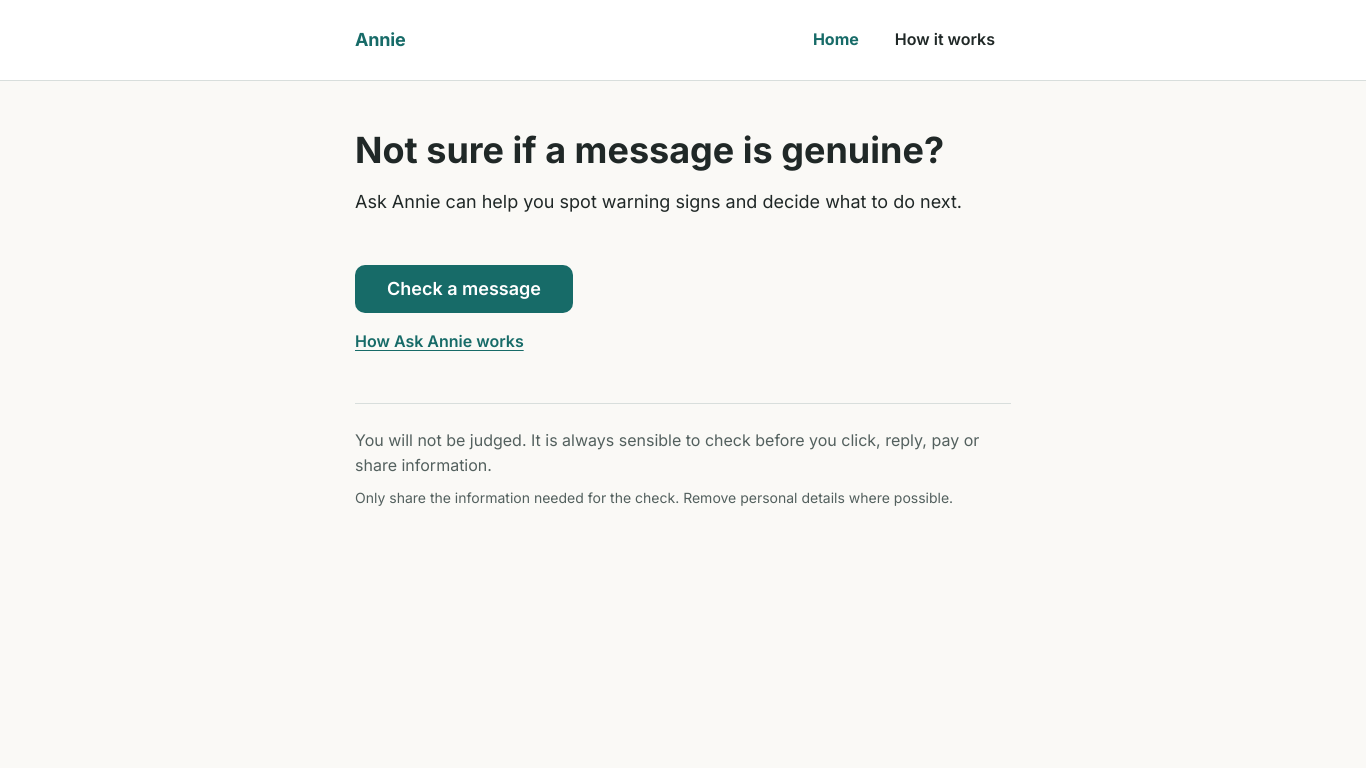
Scenario: WelcomeScreen — App integration › Header "How it works" from a non-welcome screen navigates and opens the panel
// Navigate away to submit screen
Click the button "Check a message": click(464, 289) [355, 265, 573, 313]
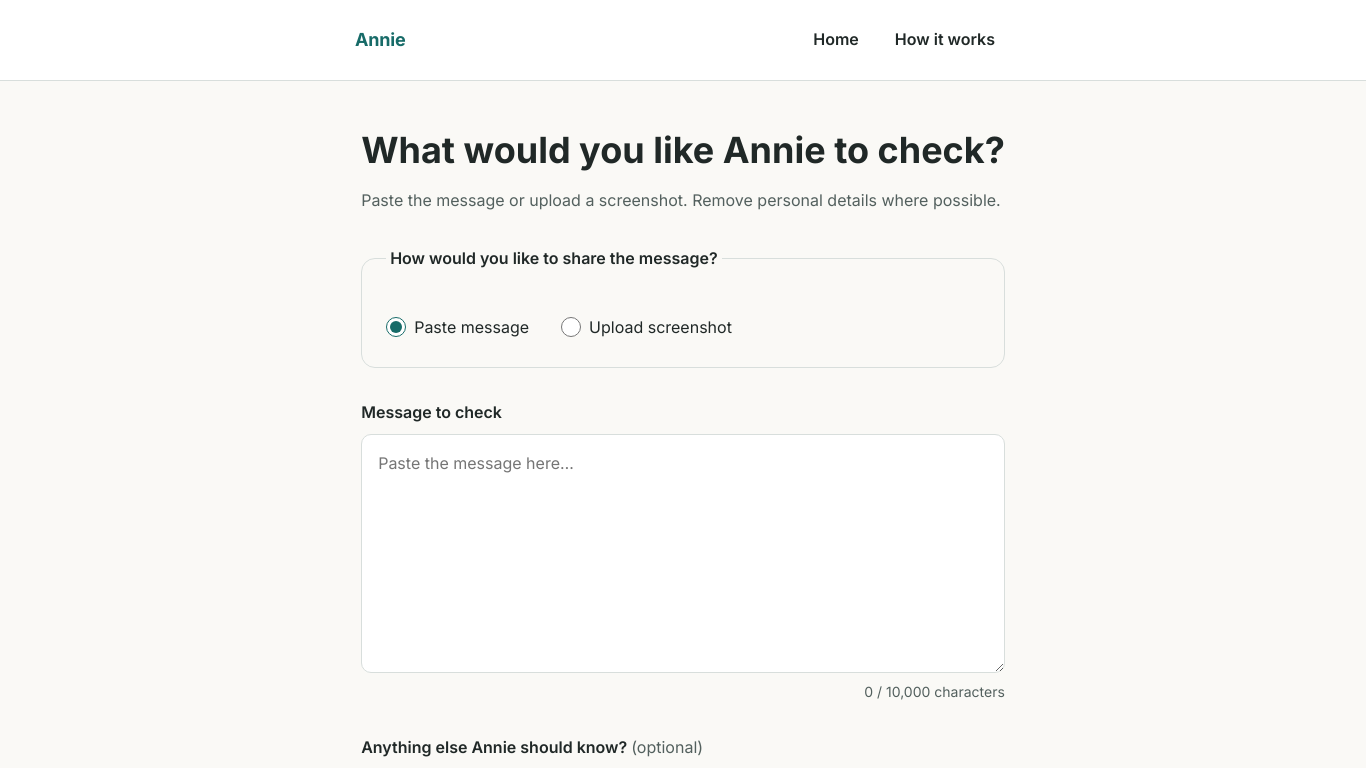
// Click Header "How it works"
Click the button "How it works": click(945, 40) [879, 16, 1011, 64]
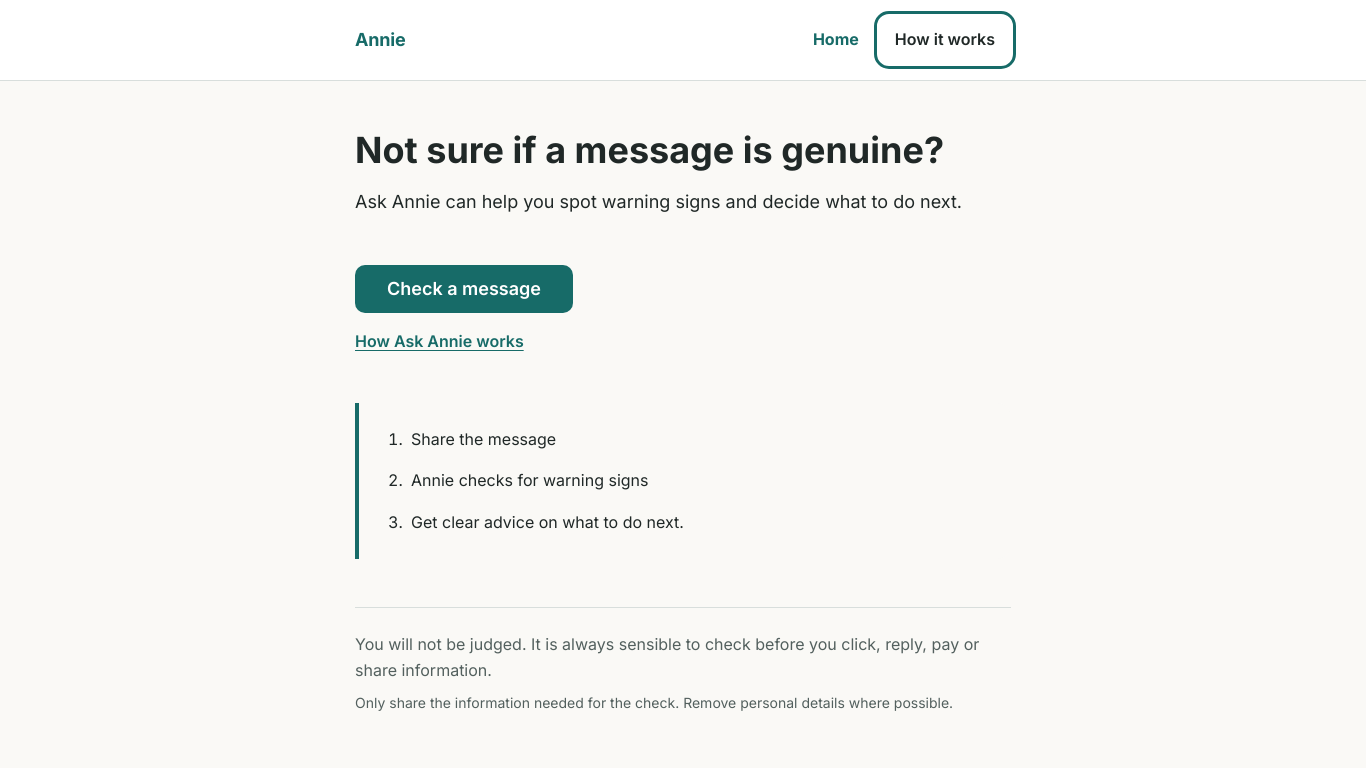
Expected: the button "How Ask Annie works" is expanded, [355, 329, 524, 355]
Expected: the element with test id "screen-welcome" is shown, [355, 81, 1011, 762]
